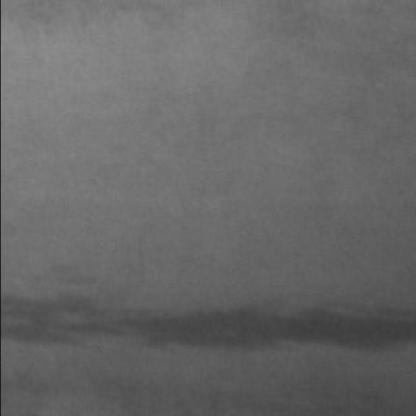inclusion: (4, 274, 416, 354)
